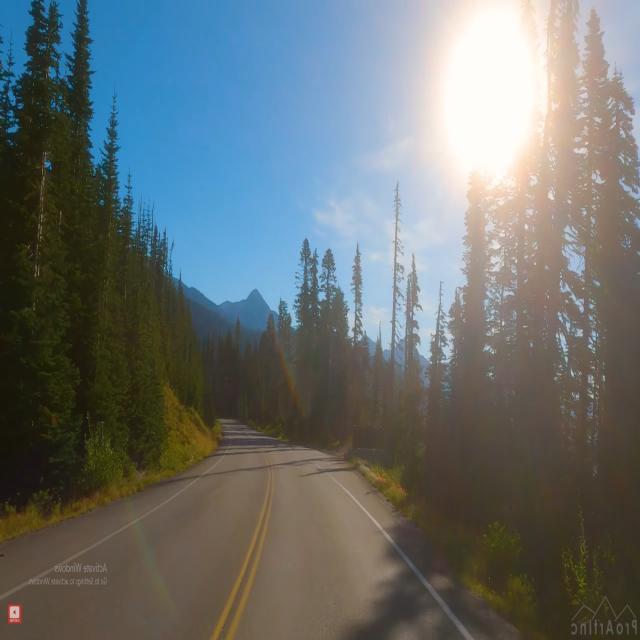sun: (421, 0, 556, 196)
